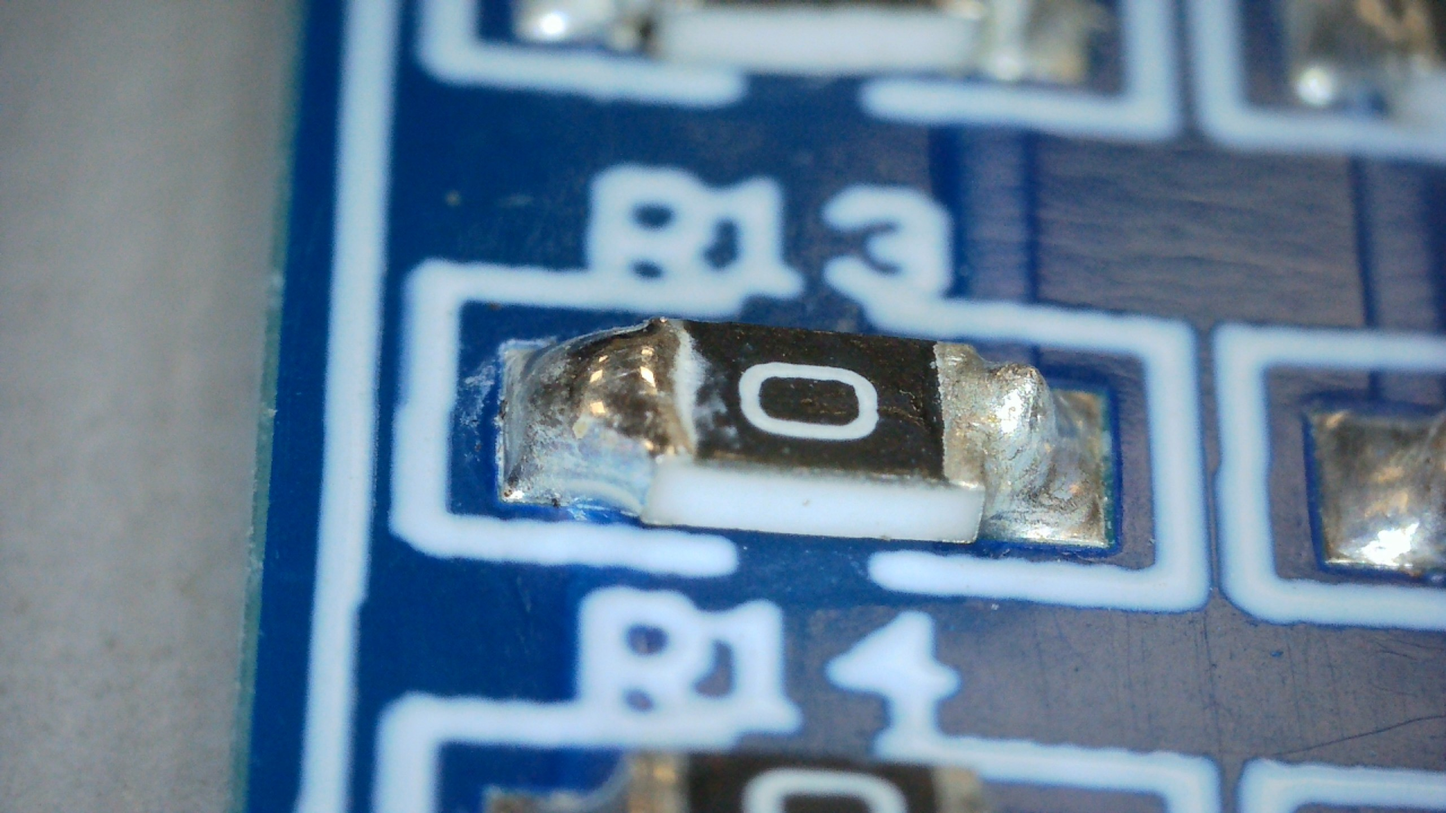NG: (503, 317, 690, 503), (937, 341, 1078, 522)
